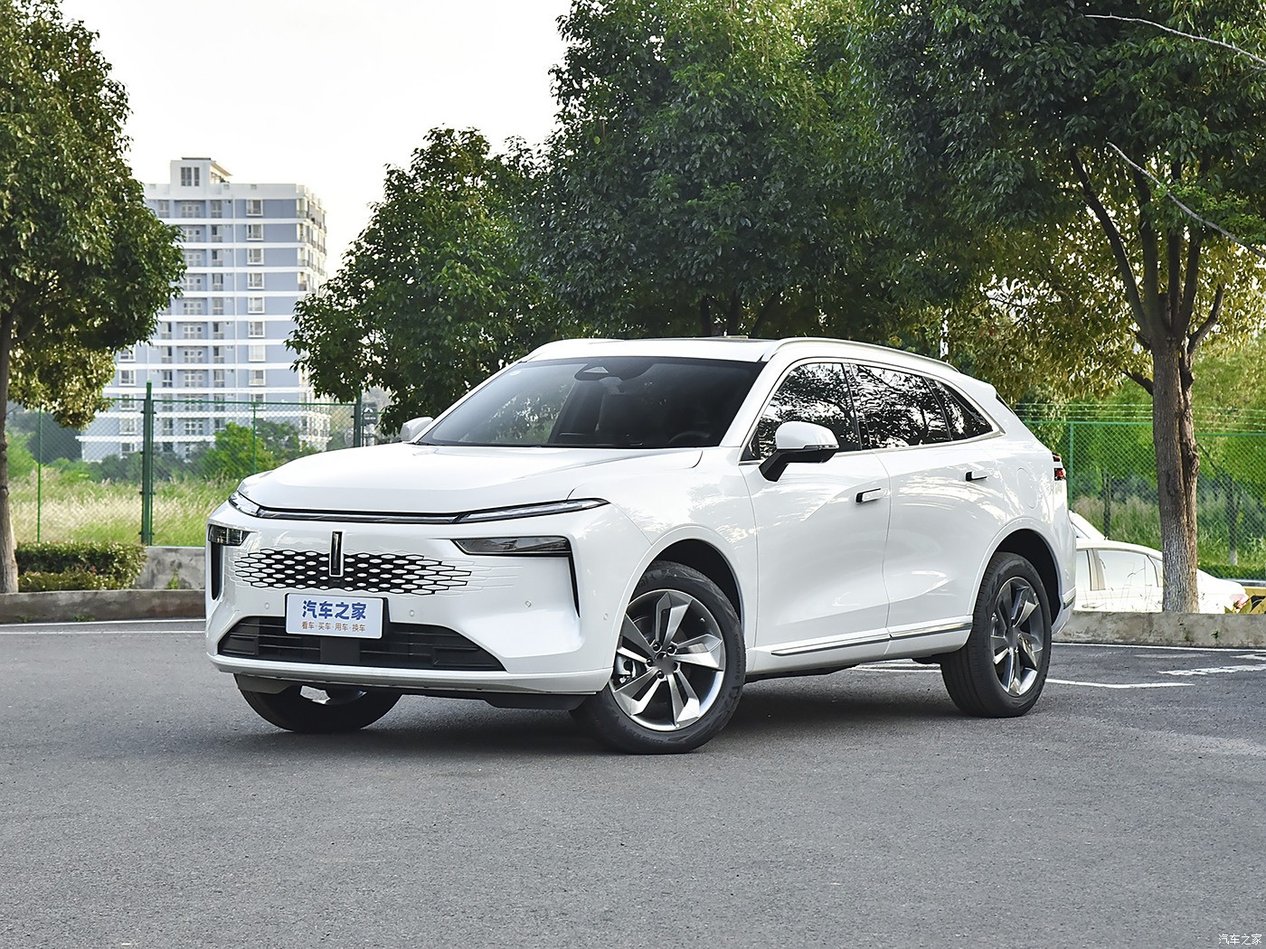WEY: (331, 531, 342, 574)
